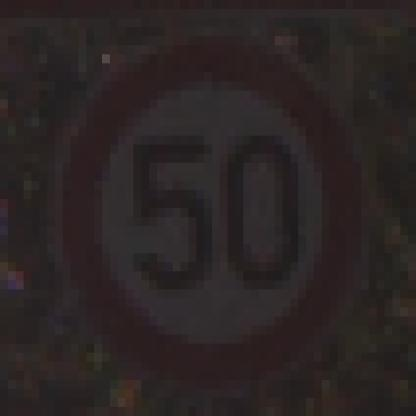Speed Limit 50: (67, 41, 361, 384)
